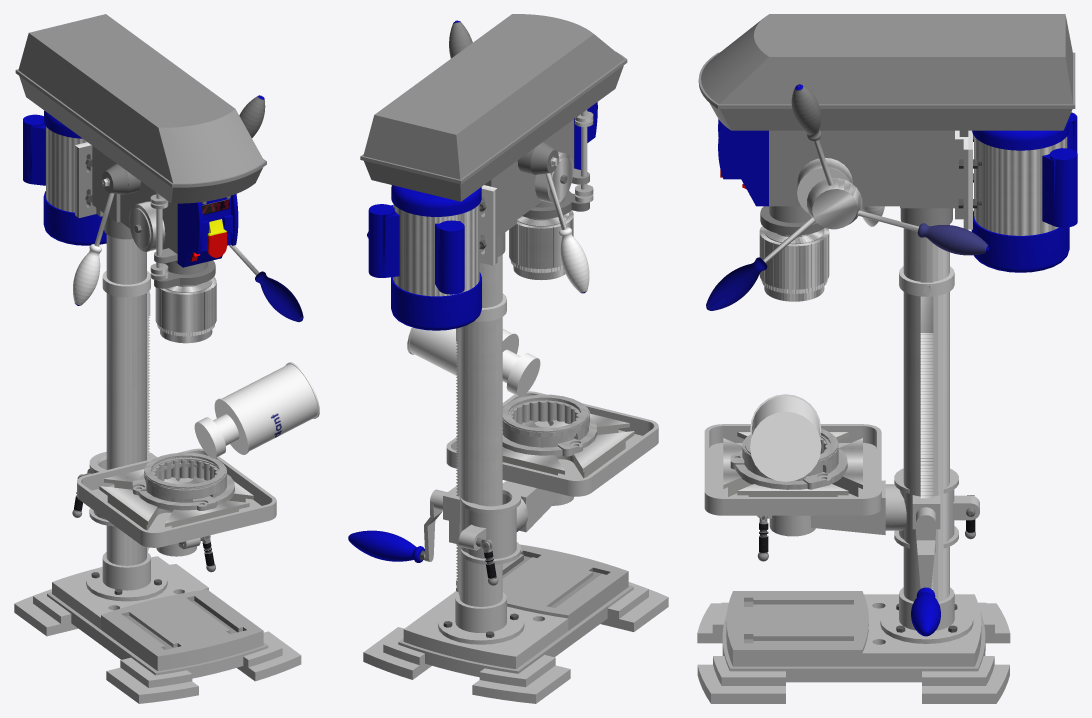
The picture shows the model from 3 angles, left to right: view 1: azimuth 30°, elevation 25°; view 2: azimuth 150°, elevation 25°; view 3: azimuth 270°, elevation 25°; orthographic projection. The views are drawn at different scales.
Visible parts, largest first — view 1: 01, 04, sealant f, 03, 02.001, 1.001, 2.001, 1, 1.002; view 2: 01, 04, sealant f, 03, 1.001, 2.001, 1.002, 02.001; view 3: 01, 04, 02.001, sealant f, 03, 1.001.
Boxes of the visible parts, bbox=[...] form: 01: bbox=[14, 14, 301, 703]; 04: bbox=[72, 448, 276, 572]; sealant f: bbox=[194, 362, 319, 458]; 03: bbox=[155, 277, 216, 343]; 02.001: bbox=[229, 95, 303, 322]; 1.001: bbox=[132, 466, 234, 510]; 2.001: bbox=[151, 457, 219, 499]; 1: bbox=[151, 457, 221, 498]; 1.002: bbox=[144, 452, 225, 488]; 01: bbox=[360, 14, 668, 703]; 04: bbox=[348, 391, 658, 585]; sealant f: bbox=[407, 327, 540, 396]; 03: bbox=[509, 210, 573, 280]; 1.001: bbox=[502, 407, 597, 456]; 2.001: bbox=[511, 399, 580, 439]; 1.002: bbox=[502, 394, 588, 432]; 02.001: bbox=[367, 20, 472, 238]; 01: bbox=[697, 14, 1077, 703]; 04: bbox=[704, 424, 979, 636]; 02.001: bbox=[706, 84, 988, 310]; sealant f: bbox=[750, 394, 821, 481]; 03: bbox=[759, 226, 829, 301]; 1.001: bbox=[730, 438, 847, 489].
Size of the model in its own units: 485 by 1225 by 676.
Materials: 40 (13 with a texture image).
